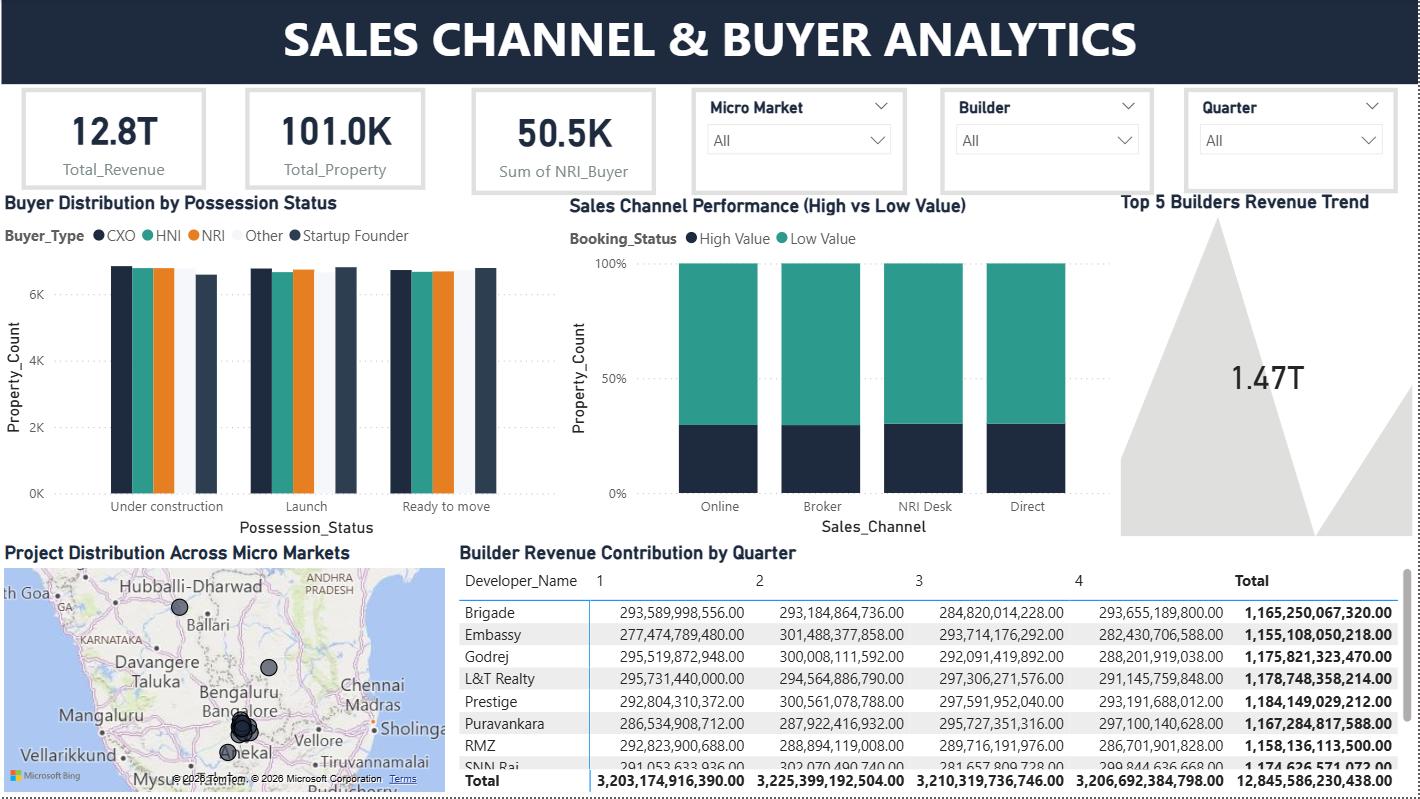

What the dashboard file says about the page in this screenshot:
{"tool":"powerbi","page":{"name":"Page 2","canvas":[1280,720],"ordinal":1},"visuals":[{"type":"hundredPercentStackedColumnChart","title":"Sales Channel Performance (High vs Low Value)","fields":{"Category":["luxury_housing_db luxury_housing.Sales_Channel"],"Y":["luxury_housing_db luxury_housing.Property_Count"],"Series":["luxury_housing_db luxury_housing.Booking_Status"]},"box":[509.3,176,497.3,313.3],"z":0},{"type":"pivotTable","title":"Builder Revenue Contribution by Quarter","fields":{"Rows":["luxury_housing_db luxury_housing.Developer_Name"],"Columns":["luxury_housing_db luxury_housing.quarter_number"],"Values":["luxury_housing_db luxury_housing.Total_Revenue"]},"box":[410.7,489.3,869.3,230.7],"z":1000},{"type":"clusteredColumnChart","title":"Buyer Distribution by Possession Status","fields":{"Category":["luxury_housing_db luxury_housing.Possession_Status"],"Y":["luxury_housing_db luxury_housing.Property_Count"],"Series":["luxury_housing_db luxury_housing.Buyer_Type"]},"box":[0,173.3,509.3,316],"z":2000},{"type":"map","title":"Project Distribution Across Micro Markets","fields":{"Category":["luxury_housing_db luxury_housing.Micro_Market"],"Size":["luxury_housing_db luxury_housing.Property_Count"]},"box":[0,489.3,406.7,230.7],"z":3000},{"type":"kpi","title":"Top 5 Builders Revenue Trend","fields":{"Indicator":["luxury_housing_db luxury_housing.Total_Revenue"],"TrendLine":["luxury_housing_db luxury_housing.quarter_number"]},"box":[1006.7,172,273.3,317.3],"z":4000},{"type":"textbox","box":[2.1,0,1277.9,77],"z":5000},{"type":"slicer","fields":{"Values":["luxury_housing_db luxury_housing.Developer_Name"]},"box":[848.9,79.9,192.9,96.5],"z":6000},{"type":"slicer","fields":{"Values":["luxury_housing_db luxury_housing.quarter_number"]},"box":[1068,79.9,192.9,95.1],"z":7000},{"type":"slicer","fields":{"Values":["luxury_housing_db luxury_housing.Micro_Market"]},"box":[624.3,79.9,194.3,96.5],"z":8000},{"type":"card","fields":{"Values":["luxury_housing_db luxury_housing.Total_Revenue"]},"box":[20.7,79.9,166.8,92.3],"z":9000},{"type":"card","fields":{"Values":["luxury_housing_db luxury_housing.Property_Count"]},"box":[221.9,79.9,162.6,92.3],"z":10000},{"type":"card","fields":{"Values":["Sum(luxury_housing_db luxury_housing.NRI_Buyer)"]},"box":[425.8,79.9,166.8,96.5],"z":11000}]}

Visuals, with their boxes in screenshot pixels (x1, y1, x2, y2), scaled from the page's 1280x720 canvas onto the 1420x799 screenshot:
"Sales Channel Performance (High vs Low Value)" hundredPercentStackedColumnChart: crop(565, 195, 1117, 543)
"Builder Revenue Contribution by Quarter" pivotTable: crop(456, 543, 1419, 798)
"Buyer Distribution by Possession Status" clusteredColumnChart: crop(0, 192, 565, 543)
"Project Distribution Across Micro Markets" map: crop(0, 543, 451, 798)
"Top 5 Builders Revenue Trend" kpi: crop(1117, 191, 1419, 543)
textbox: crop(2, 0, 1419, 85)
slicer - luxury_housing_db luxury_housing.Developer_Name: crop(942, 89, 1156, 196)
slicer - luxury_housing_db luxury_housing.quarter_number: crop(1185, 89, 1399, 194)
slicer - luxury_housing_db luxury_housing.Micro_Market: crop(693, 89, 908, 196)
card - luxury_housing_db luxury_housing.Total_Revenue: crop(23, 89, 208, 191)
card - luxury_housing_db luxury_housing.Property_Count: crop(246, 89, 427, 191)
card - Sum(luxury_housing_db luxury_housing.NRI_Buyer): crop(472, 89, 657, 196)
